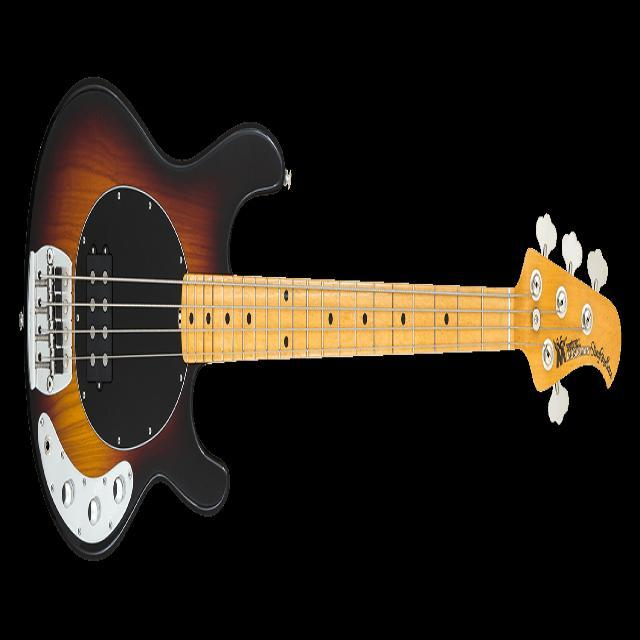bass: (20, 80, 620, 557)
